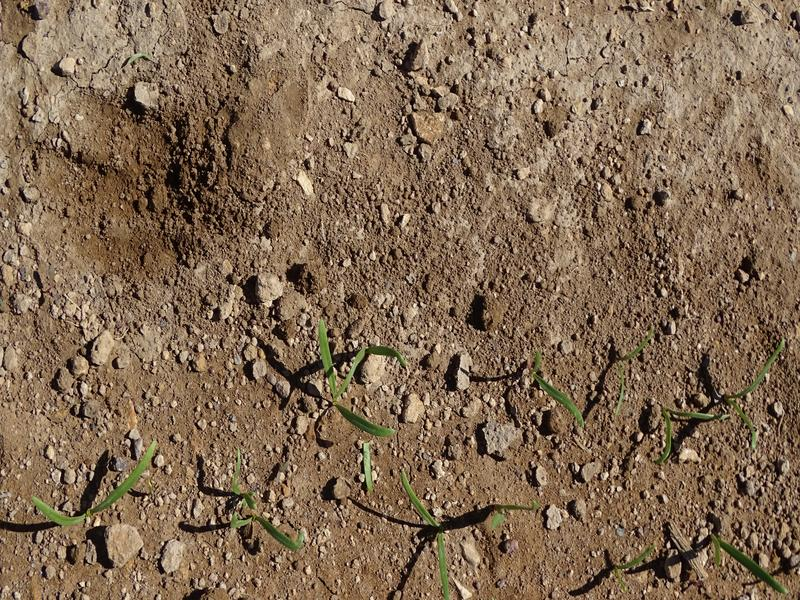Espinaca: (310, 313, 407, 440), (30, 437, 161, 525), (393, 465, 455, 596), (227, 453, 305, 551), (731, 333, 790, 449), (707, 523, 792, 594), (525, 352, 591, 428), (656, 397, 725, 462)
